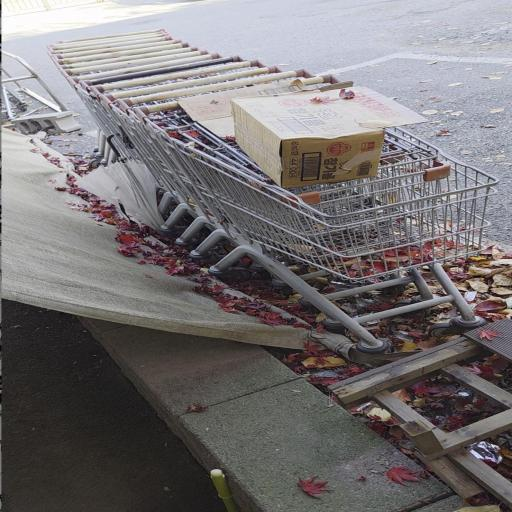combined_cart: (47, 30, 496, 358)
